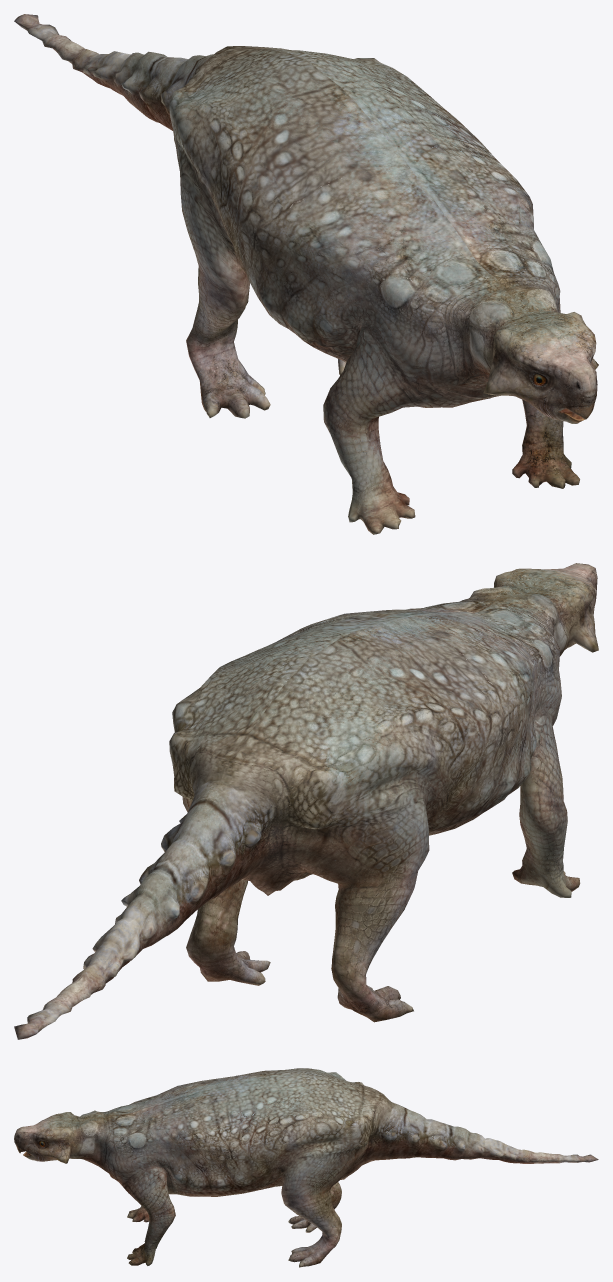
File: Kunbarrasaurus.glb
The picture shows the model from 3 angles, top to bottom: view 1: azimuth 30°, elevation 25°; view 2: azimuth 150°, elevation 25°; view 3: azimuth 270°, elevation 25°; orthographic projection. The views are drawn at different scales.
Visible parts, largest first — view 1: UVMAPPED; view 2: UVMAPPED; view 3: UVMAPPED.
Boxes of the visible parts, x1,y1,x2,y2 form: UVMAPPED: [14, 14, 598, 534]; UVMAPPED: [14, 563, 598, 1039]; UVMAPPED: [14, 1068, 598, 1267].
Bounding box in the file's own units: 0.9627 × 1.23 × 3.85.
1 material, 1 textured.
